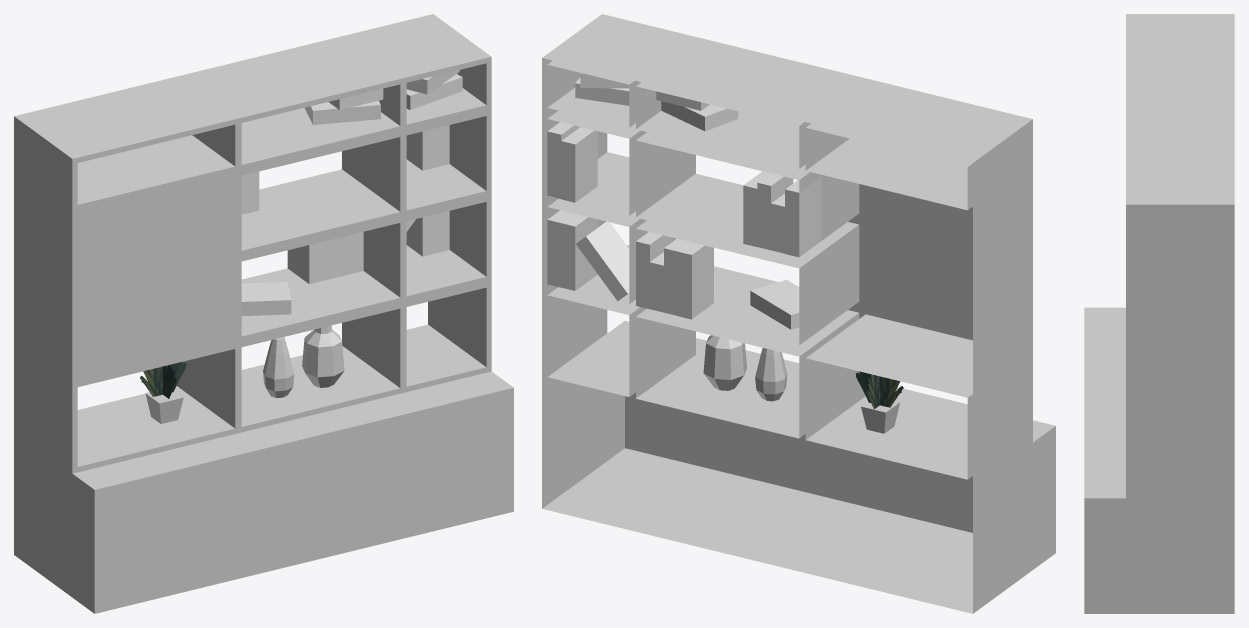
The model's file is Tile_large_shelf.fbx.
The picture shows the model from 3 angles, left to right: view 1: azimuth 30°, elevation 25°; view 2: azimuth 150°, elevation 25°; view 3: azimuth 270°, elevation 25°; orthographic projection. The views are drawn at different scales.
Visible parts, largest first — view 1: Plane.005; view 2: Plane.005; view 3: Plane.005.
Part boxes in pixels (box(x1,y1,x2,y2)): Plane.005: box(14, 14, 513, 613); Plane.005: box(542, 14, 1055, 613); Plane.005: box(1084, 14, 1234, 613).
Bounding box in the file's own units: 600 × 600 × 200.
